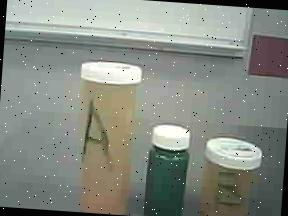Bottle A: (66, 60, 145, 216)
Bottle B: (198, 127, 264, 216)
Bottle C: (139, 118, 195, 216)
